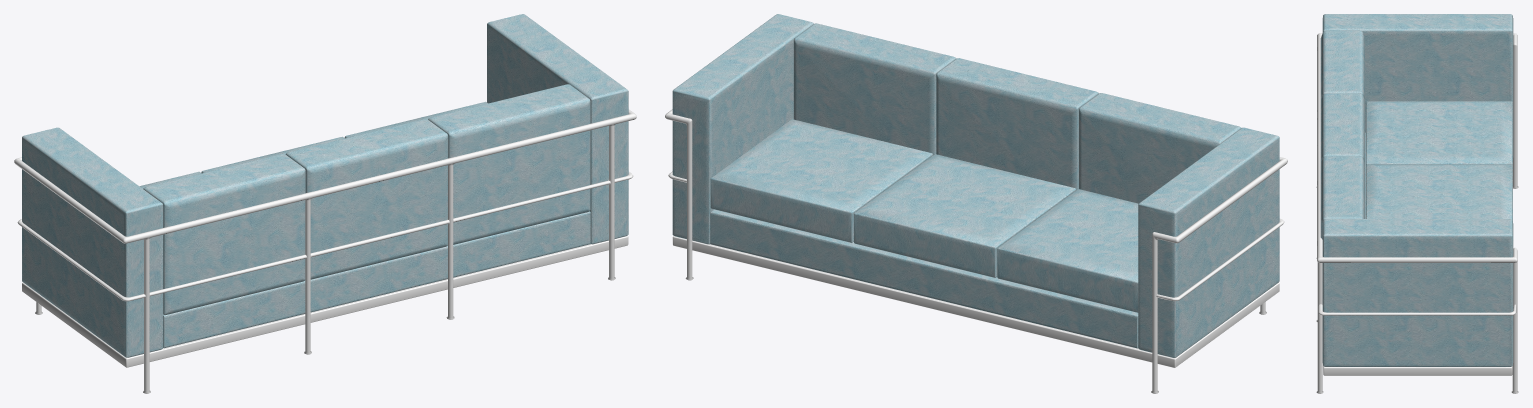
File: Sofa_3.fbx
3 renders of one model, left to right at view 1: azimuth 30°, elevation 25°; view 2: azimuth 150°, elevation 25°; view 3: azimuth 270°, elevation 25°, orthographic. The views are drawn at different scales.
Visible parts, largest first — view 1: Sofa_3; view 2: Sofa_3; view 3: Sofa_3.
Part boxes in pixels (bbox=[...]): Sofa_3: bbox=[14, 14, 636, 393]; Sofa_3: bbox=[665, 14, 1287, 393]; Sofa_3: bbox=[1316, 14, 1518, 393].
Bounding box in the file's own units: 1.88 × 0.6474 × 0.712.
